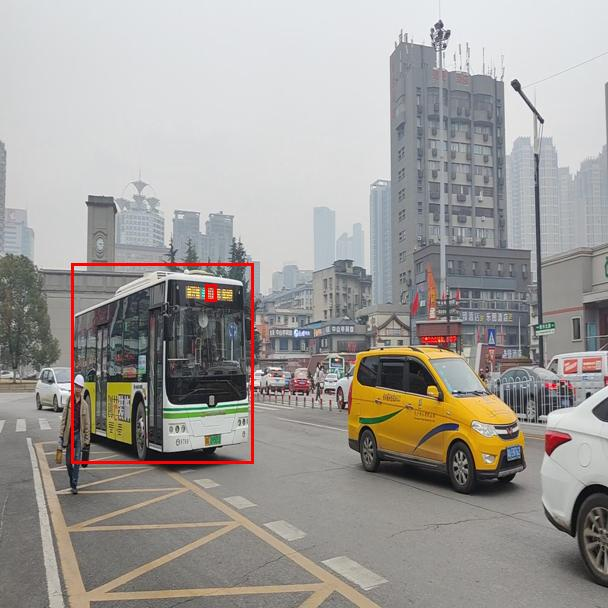bus: (71, 263, 253, 463)
screen: (205, 284, 216, 301)
